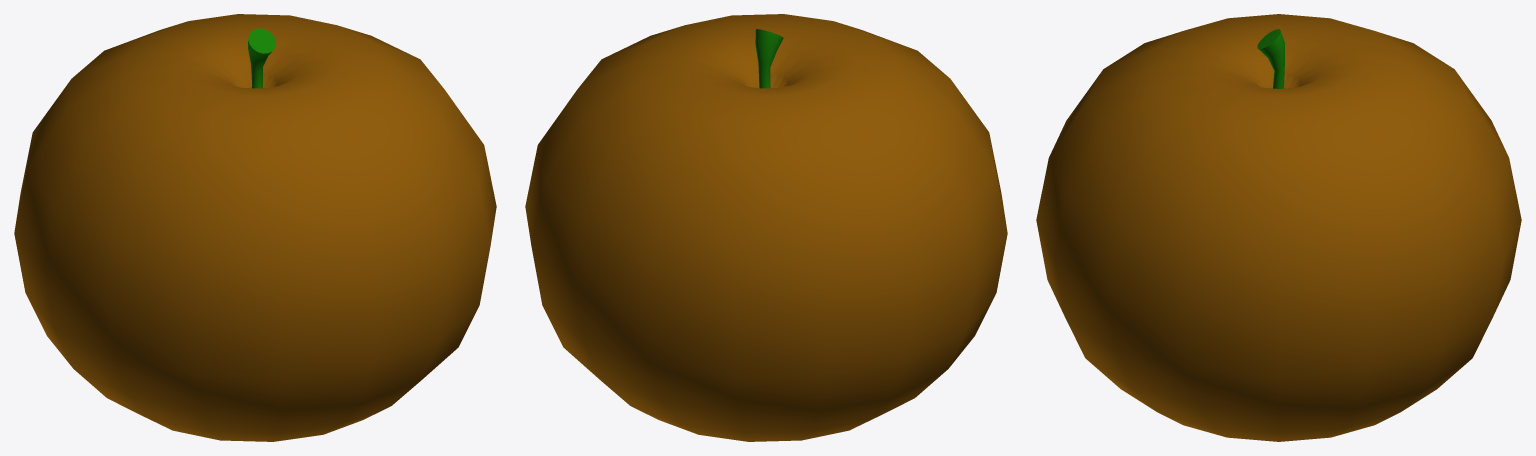
The model's file is Pear.fbx.
3 renders of one model, left to right at view 1: azimuth 30°, elevation 25°; view 2: azimuth 150°, elevation 25°; view 3: azimuth 270°, elevation 25°, orthographic.
Visible parts, largest first — view 1: Pear; view 2: Pear; view 3: Pear.
Part boxes in pixels (left/top/right/bottom): Pear: left=14, top=14, right=496, bottom=441; Pear: left=525, top=14, right=1007, bottom=441; Pear: left=1036, top=14, right=1521, bottom=441.
Bounding box in the file's own units: 32.51 × 32.51 × 26.77.
